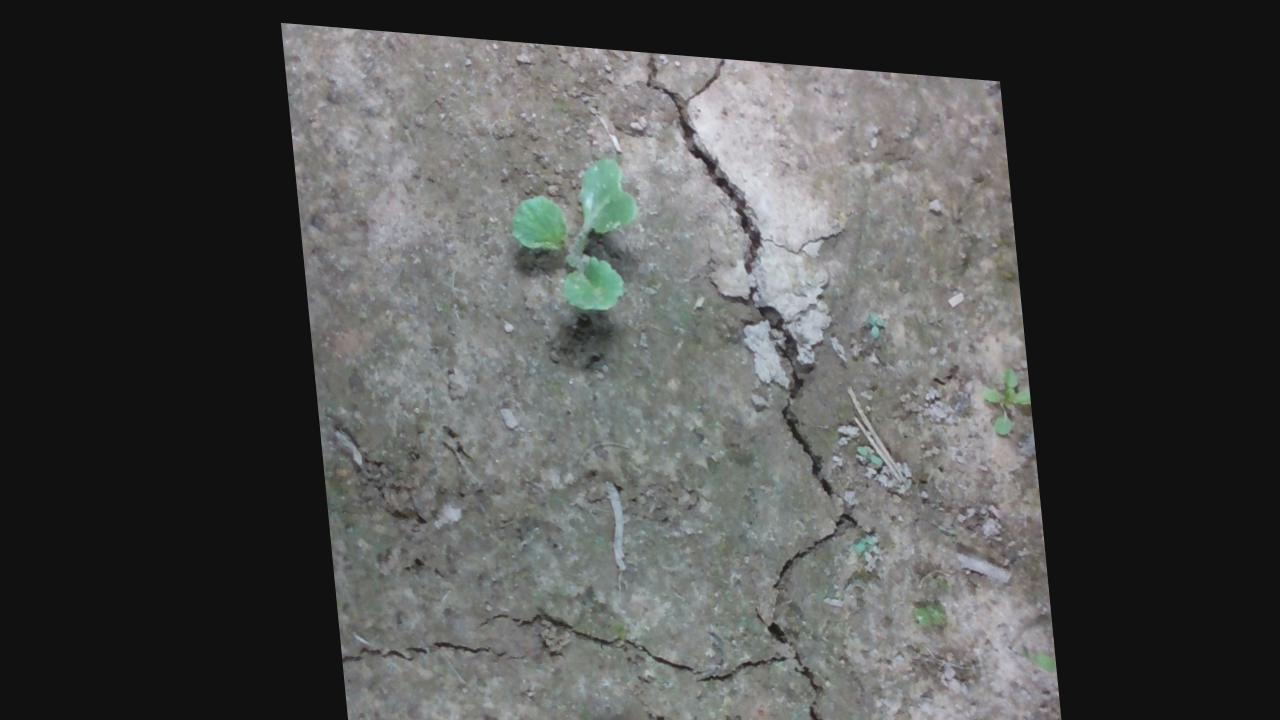weed: (833, 513, 876, 552), (857, 288, 888, 329), (961, 707, 991, 719)
